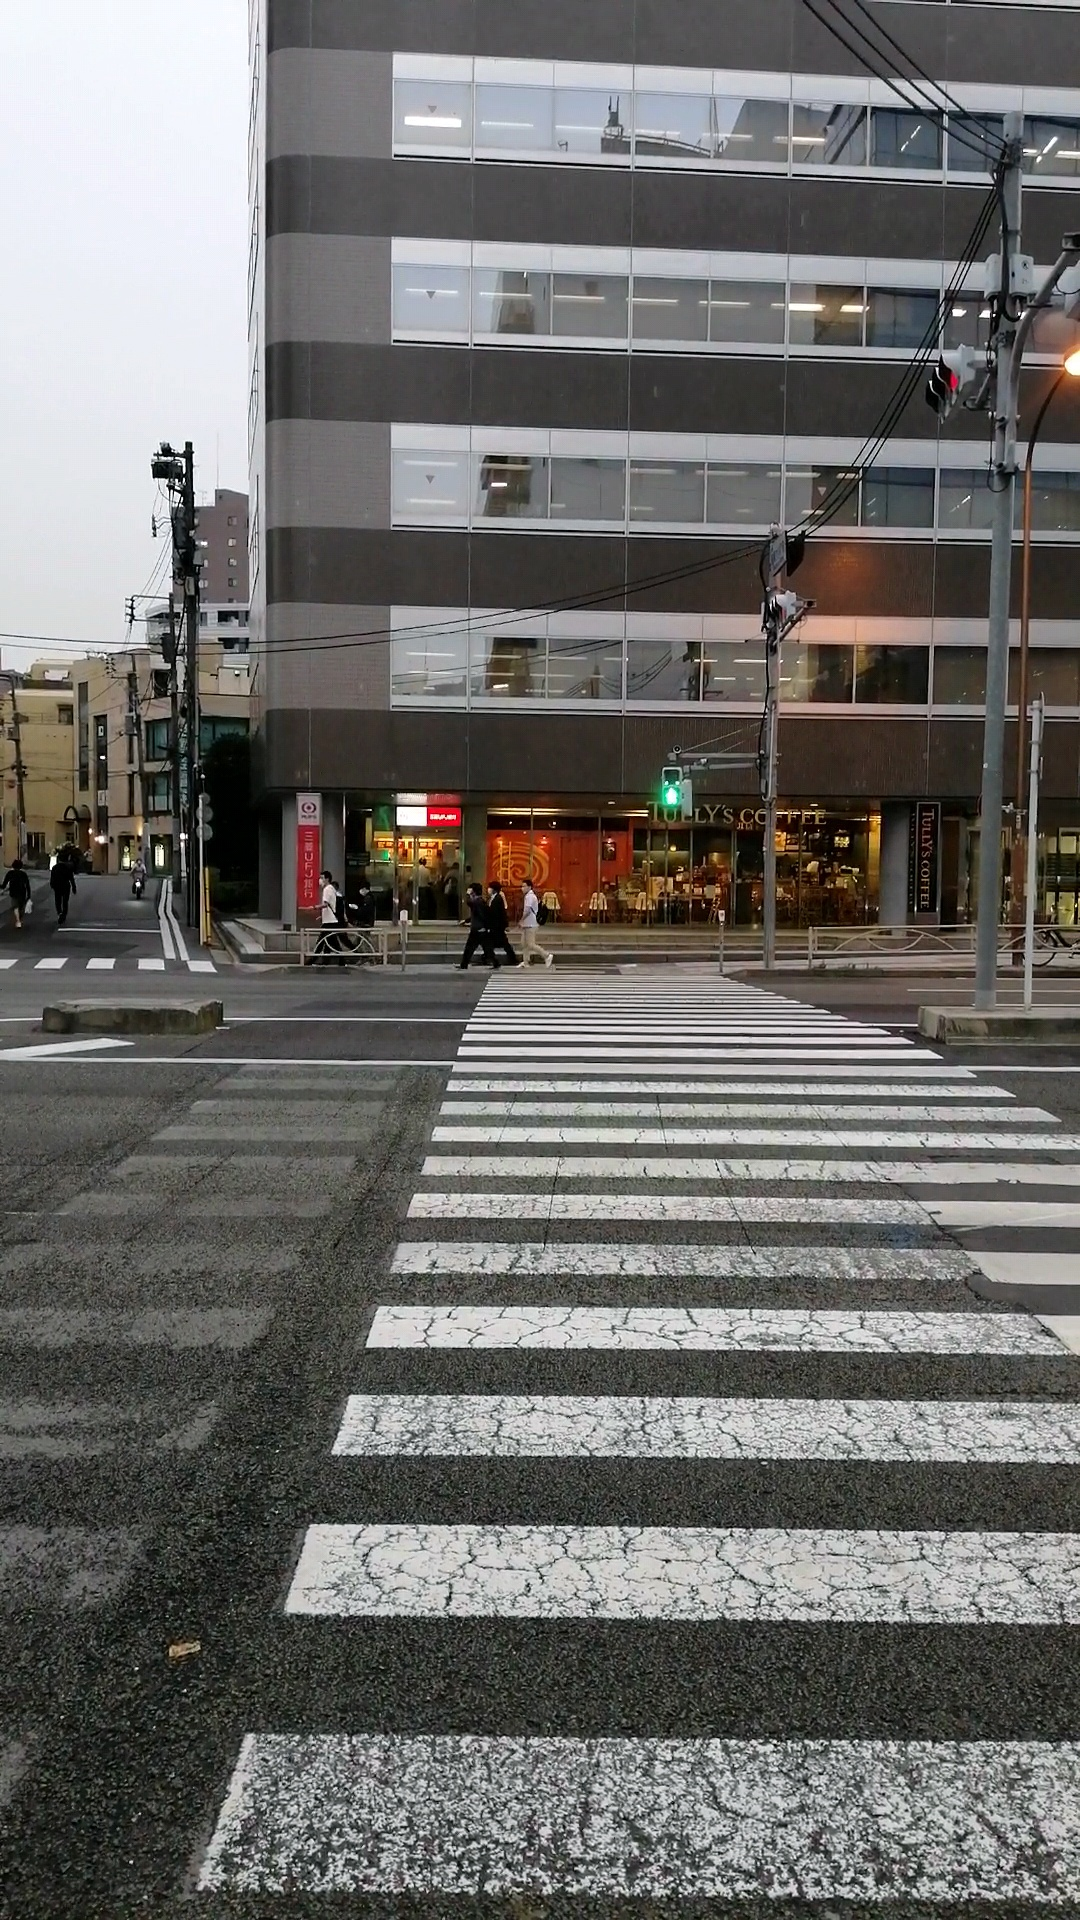green: (659, 767, 682, 807)
